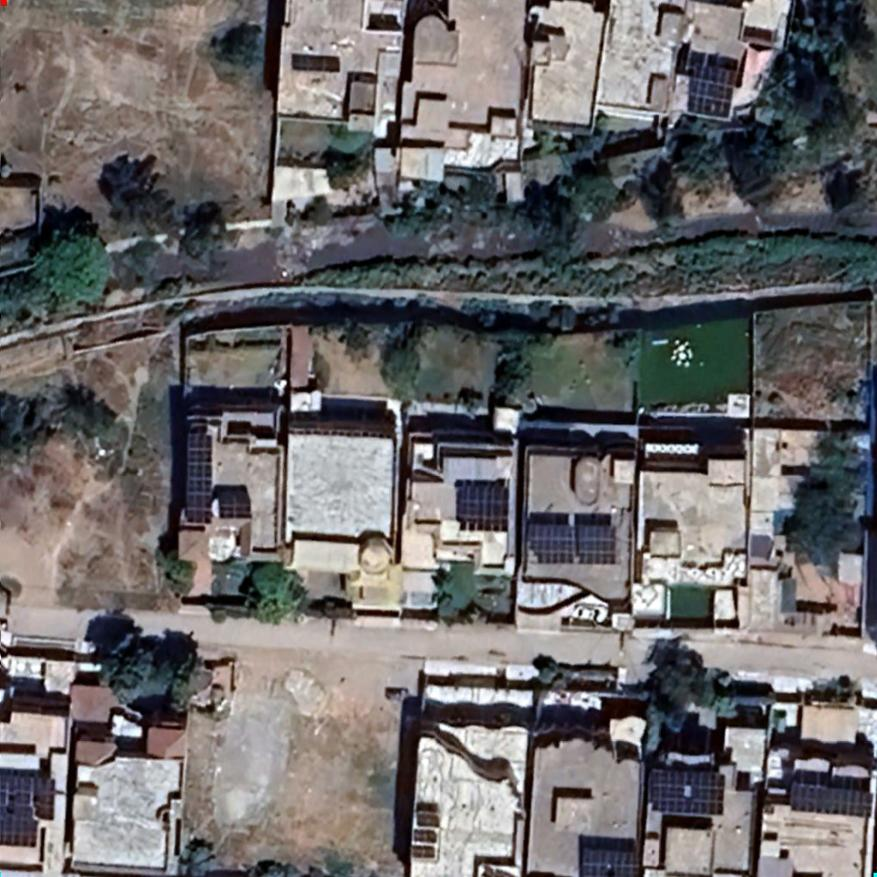Solarpanel: (0, 771, 59, 848), (525, 518, 619, 566), (644, 767, 728, 818), (788, 779, 874, 819), (184, 427, 215, 525), (454, 482, 509, 529), (577, 844, 643, 876), (215, 488, 255, 522)
